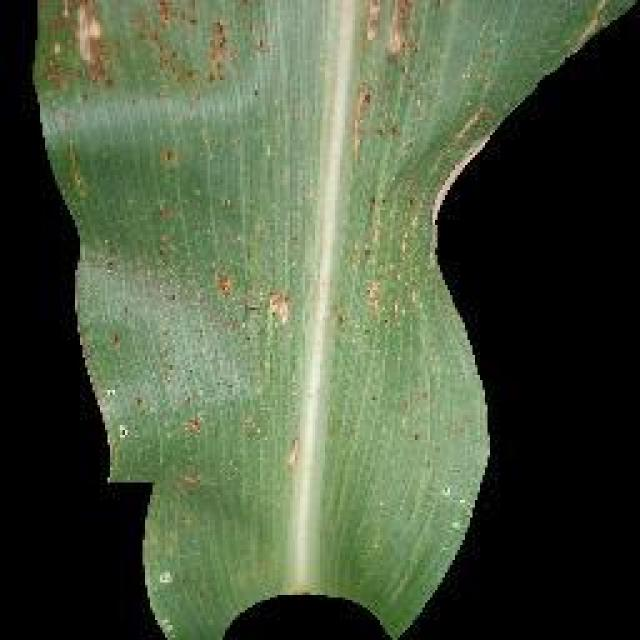Corn Common Rust: (46, 0, 480, 478)
